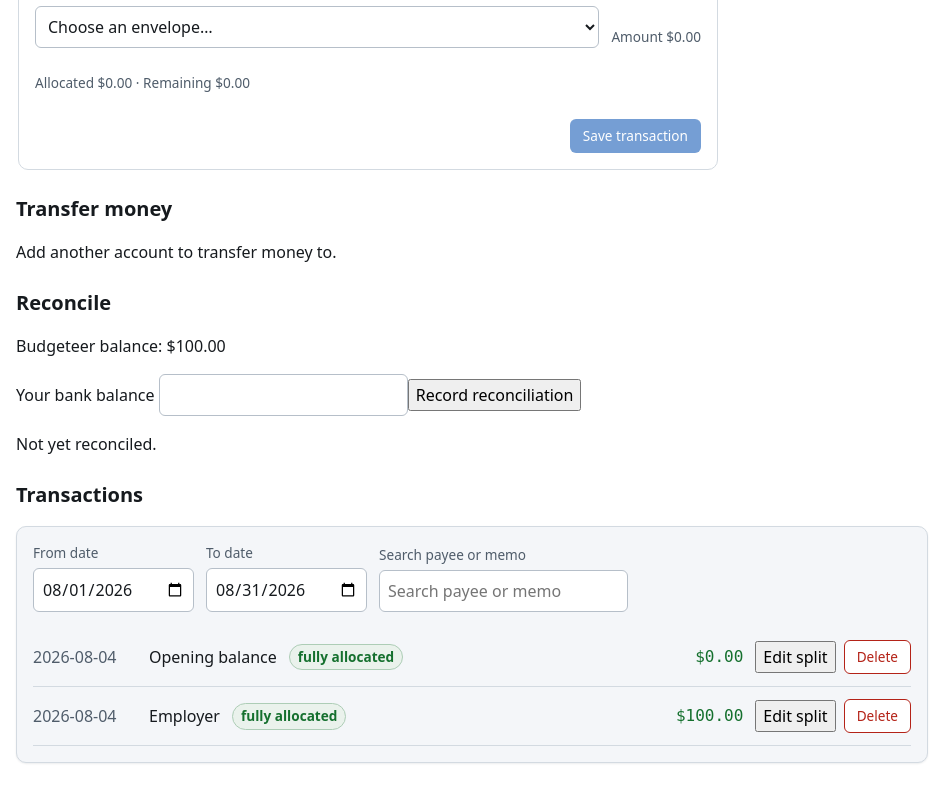
Test case: AccountRegister (add transaction → allocate) › editing a fully-allocated split to a partial shows the remainder (FEAT-005)
The image size is (945, 799).
(page scrolled)
Click the button "Edit split" in the row of "Employer".
click(795, 716)  # box [755,700,836,732]
(page scrolled)
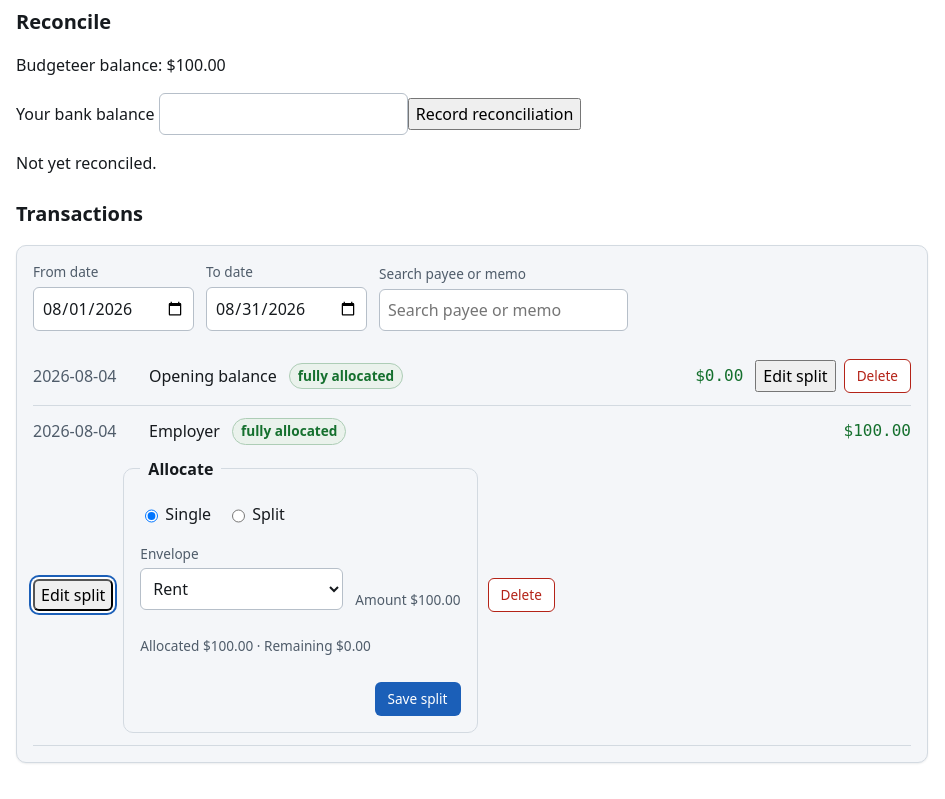
Click the radio button labelled "Split".
click(239, 516)  # box [232,500,245,532]
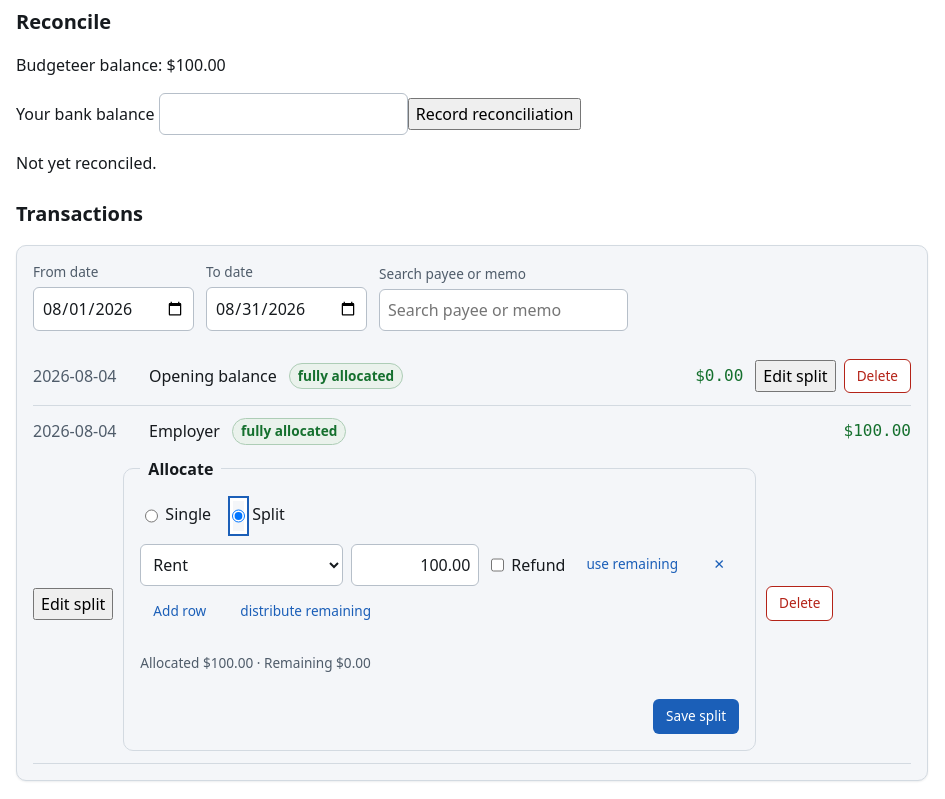
Replace the text in the field named "Amount for row 1" with "60.00" at (415, 564), box [351,544,479,586]
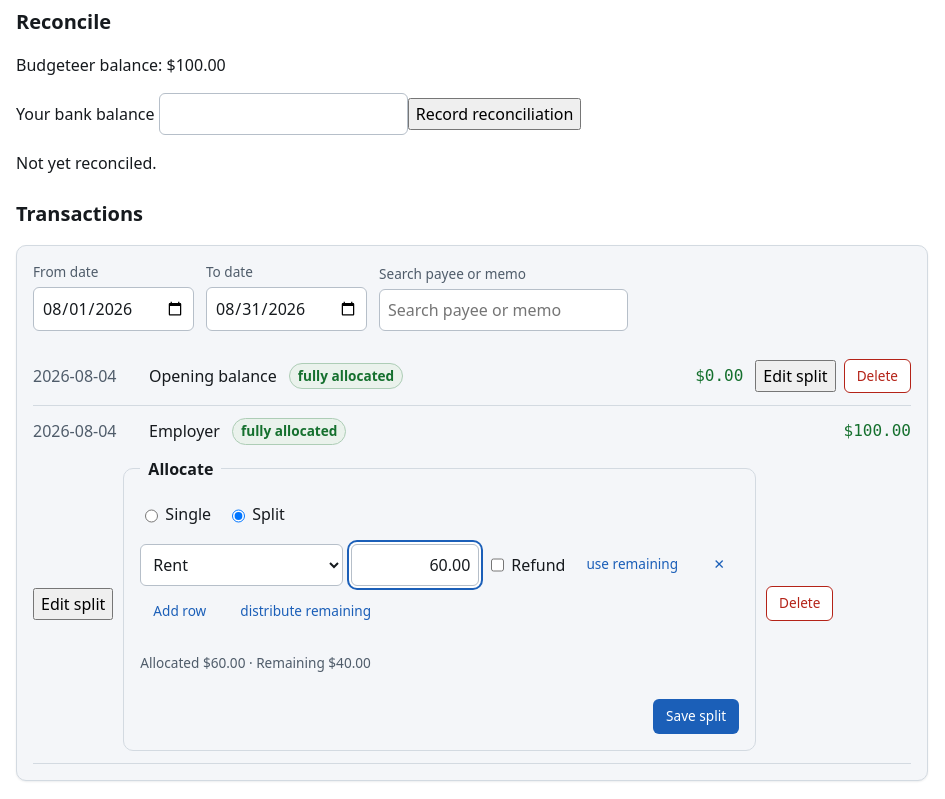
Click the button "Save split".
click(696, 717)  # box [653,699,739,734]
(page scrolled)
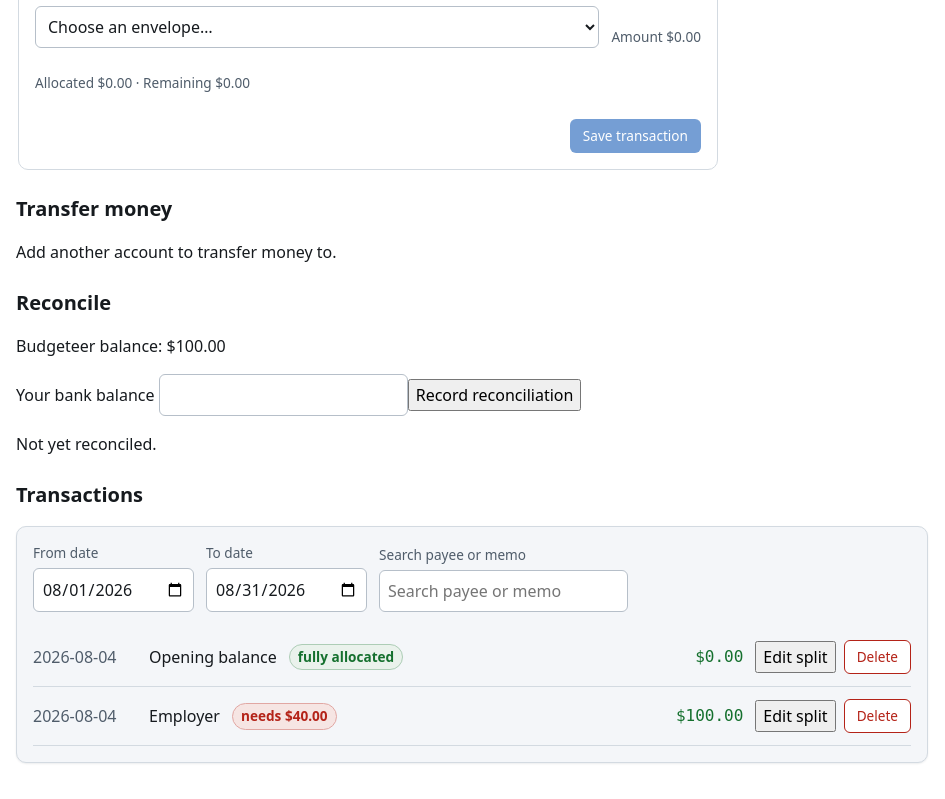
Now the text "needs $40.00" is shown, box [232,703,337,730]
